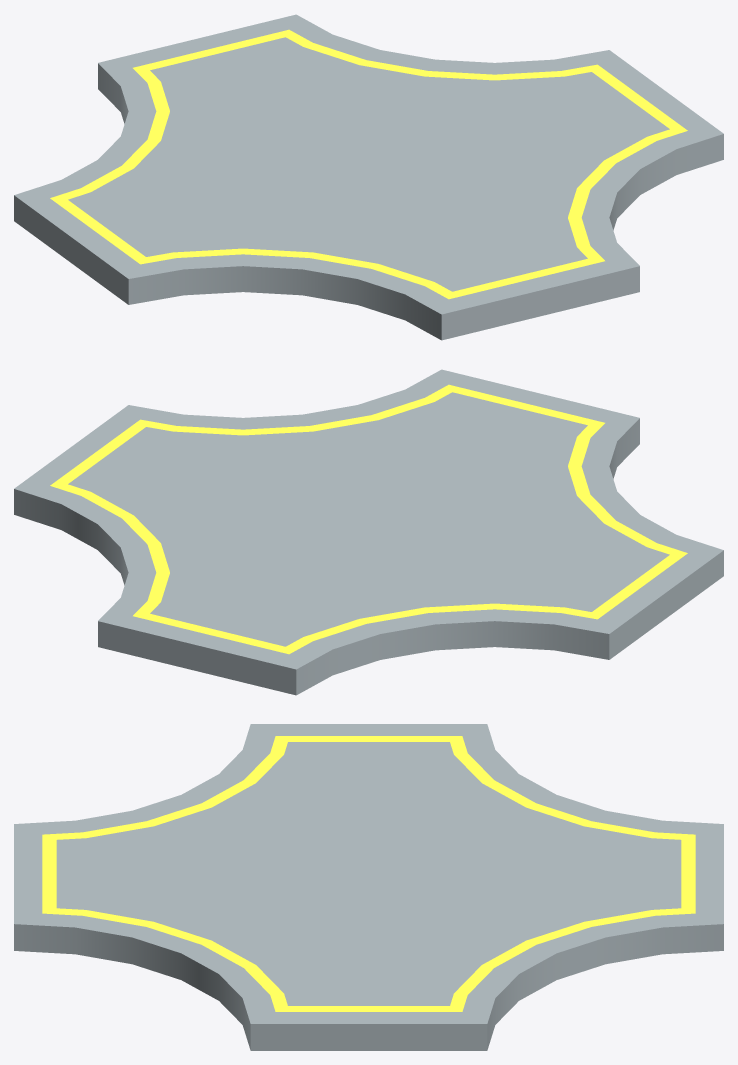
The model's file is SM_PlatformCurvedCrossroad_v0.fbx.
3 views of the same model, one above another, from view 1: azimuth 30°, elevation 25°; view 2: azimuth 150°, elevation 25°; view 3: azimuth 270°, elevation 25° (orthographic). The views are drawn at different scales.
Parts seen in each view (by area): view 1: SM_PlatformCurvedCrossroad_v0; view 2: SM_PlatformCurvedCrossroad_v0; view 3: SM_PlatformCurvedCrossroad_v0.
Part boxes in pixels (x1,y1,x2,y2): SM_PlatformCurvedCrossroad_v0: (14, 14, 723, 340); SM_PlatformCurvedCrossroad_v0: (14, 369, 723, 695); SM_PlatformCurvedCrossroad_v0: (14, 724, 723, 1050).
Size of the model in its own units: 3 by 0.125 by 3.
